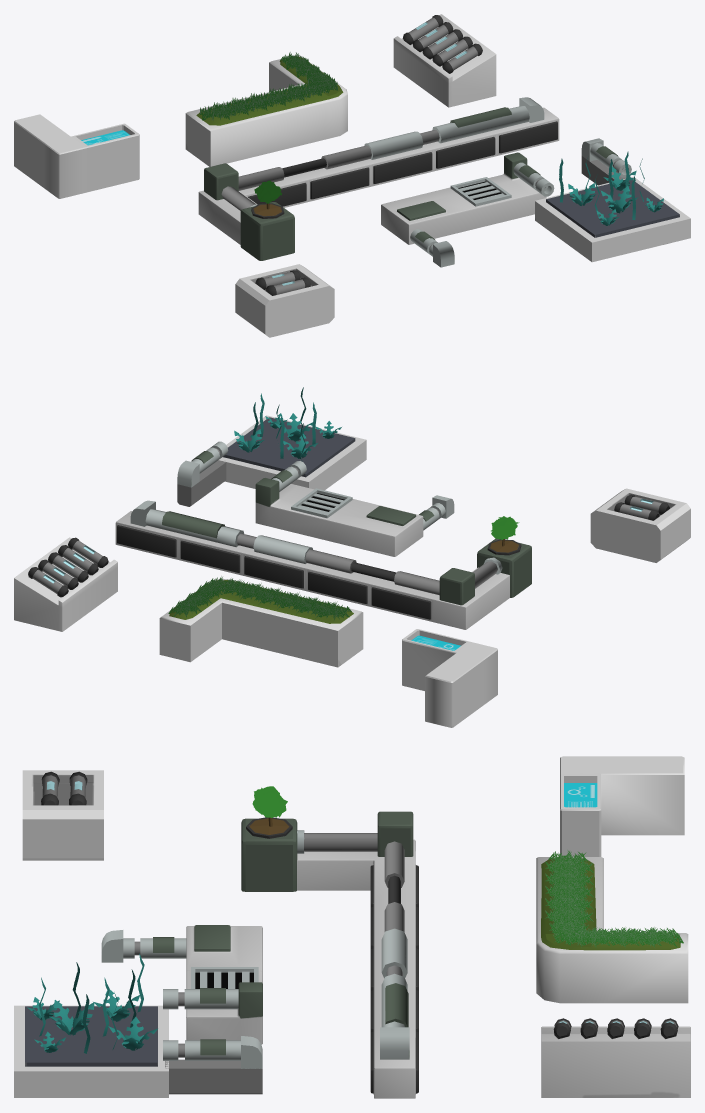
The model's file is Oxygen Tile.fbx.
The picture shows the model from 3 angles, top to bottom: view 1: azimuth 30°, elevation 25°; view 2: azimuth 150°, elevation 25°; view 3: azimuth 270°, elevation 25°; orthographic projection. The views are drawn at different scales.
Parts seen in each view (by area): view 1: OxygenStore003; view 2: OxygenStore003; view 3: OxygenStore003.
Boxes of the visible parts, box(x1,y1,x2,y2) form: OxygenStore003: box(14, 14, 690, 337); OxygenStore003: box(14, 387, 690, 727); OxygenStore003: box(14, 756, 690, 1098).
Bounding box in the file's own units: 354 × 60.43 × 354.
1 material, 1 textured.
